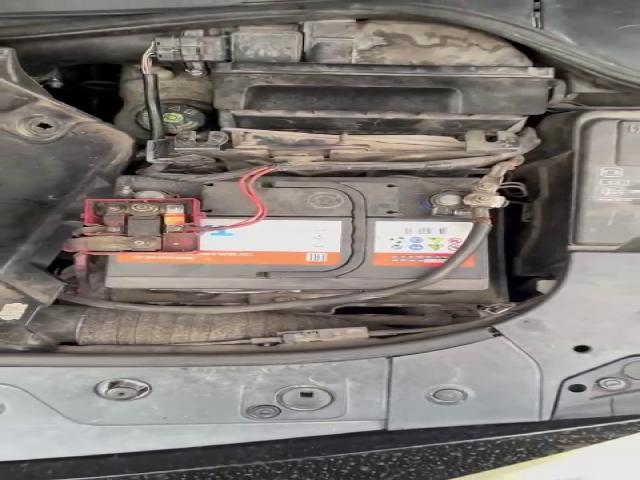accumulator: (72, 176, 497, 290)
fuse_box: (574, 117, 640, 246)
